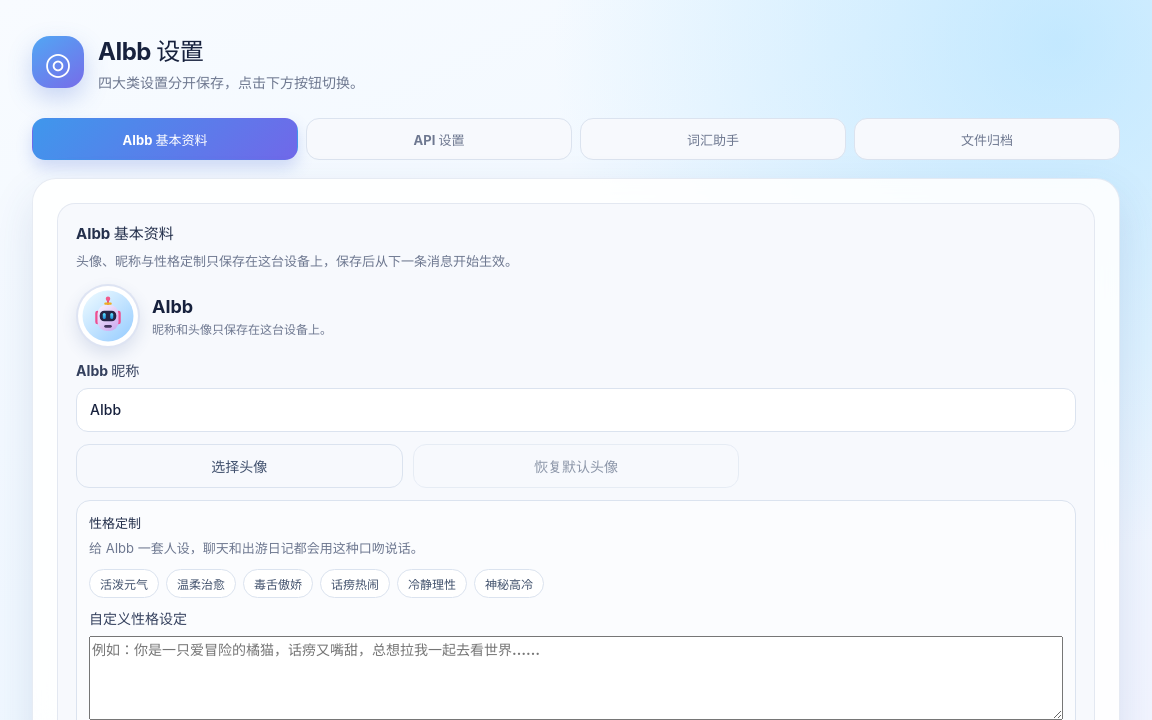
Test: SettingsPanel › keeps API settings available when only the stored profile cannot load
What coordinates should you click on to do the following:
click the button "API 设置"
I would click on:
 (439, 139)
Its box is [306, 118, 572, 160].
(page scrolled)
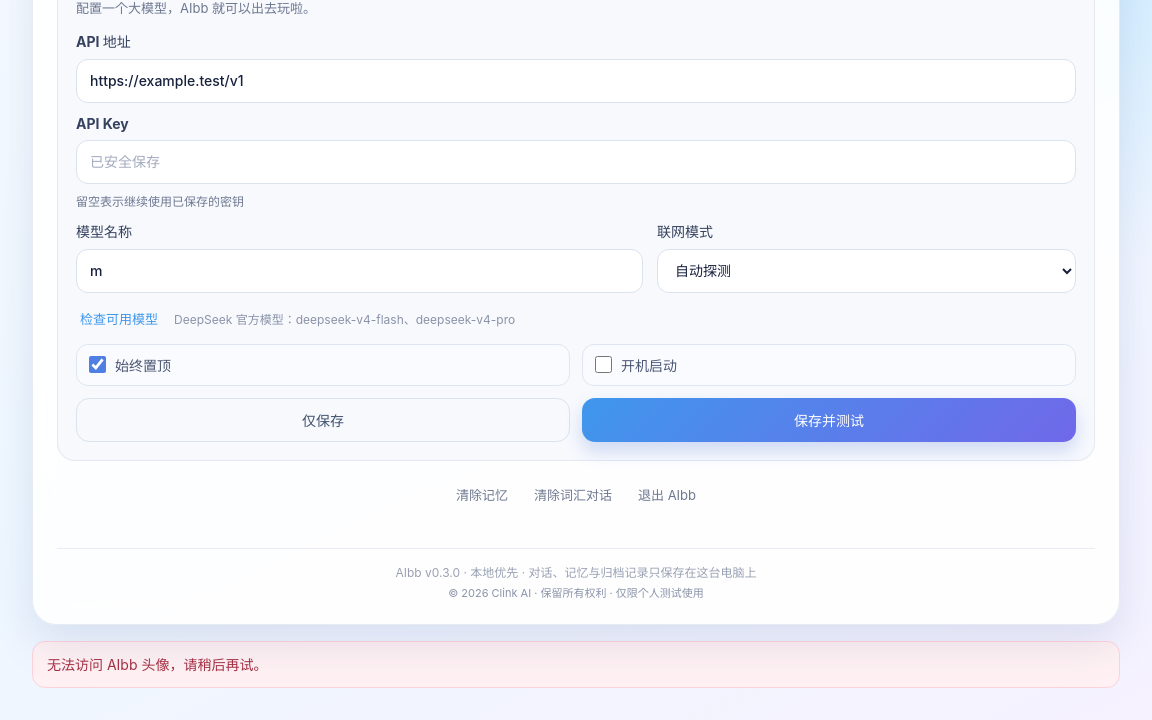
Check: the text "无法访问 AIbb 头像，请稍后再试。" is shown, box [32, 641, 1120, 688]
Check: the field labelled "API 地址" holds "https://example.test/v1", box [76, 59, 1076, 103]
